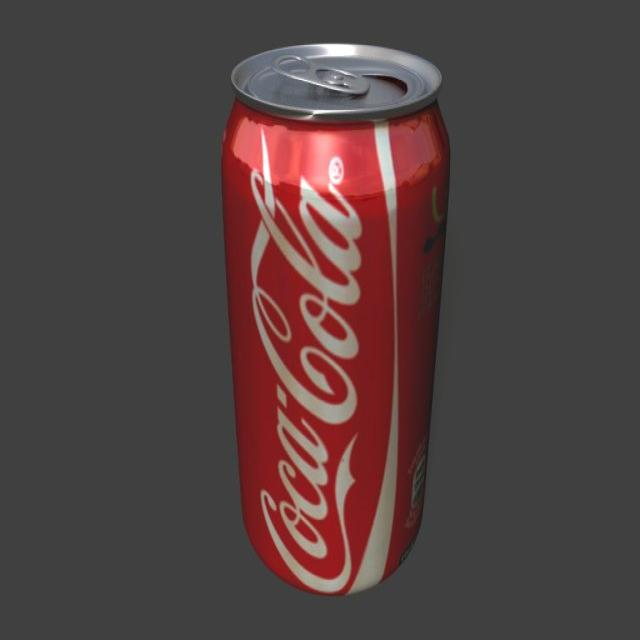cocacola: (216, 37, 444, 602)
